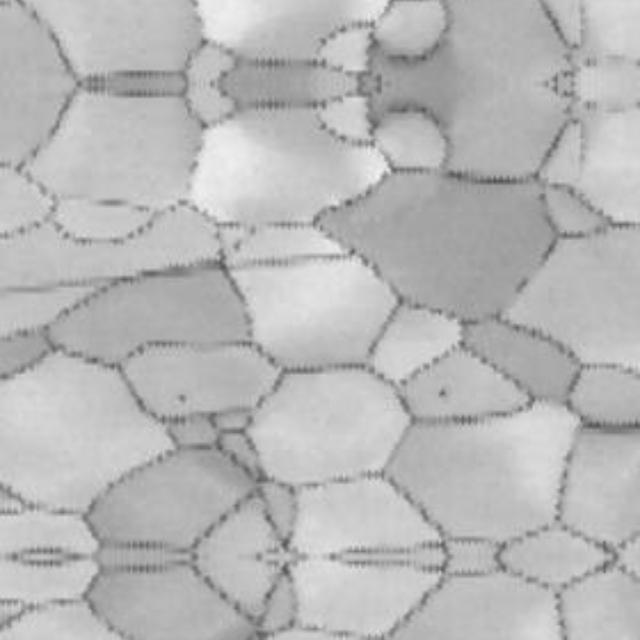good_void: (176, 389, 191, 406), (437, 381, 450, 400), (227, 239, 243, 252)
